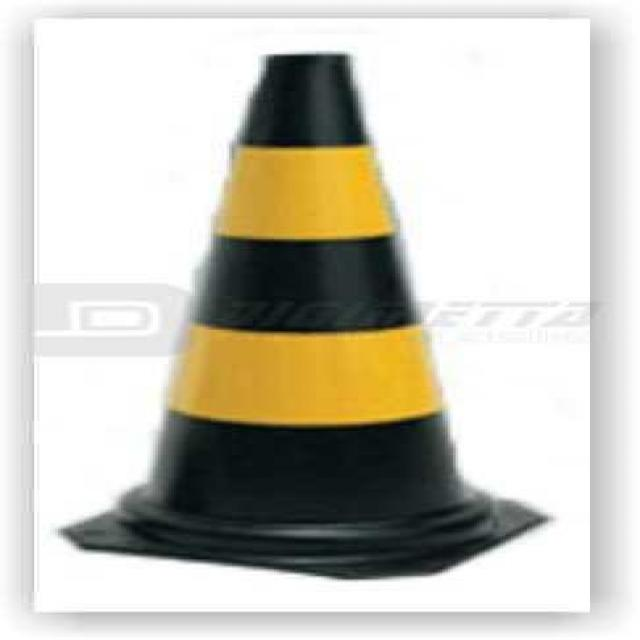cone: (48, 45, 574, 571)
